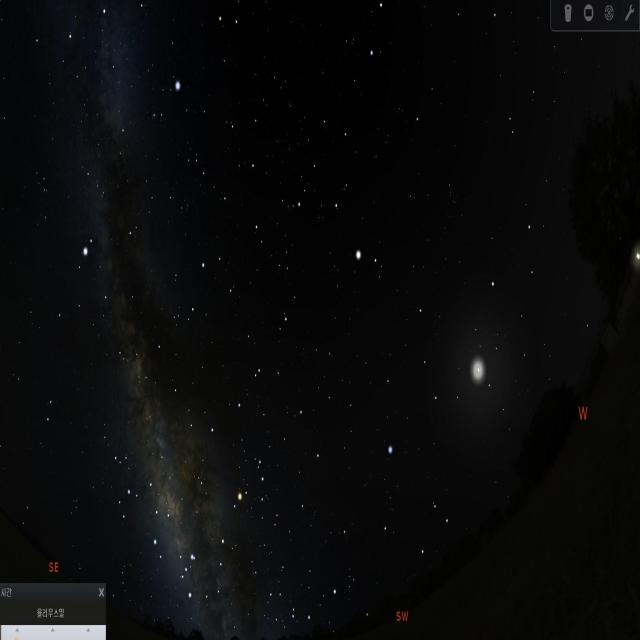aquila: (78, 221, 152, 370)
bootes: (303, 94, 385, 300)
lyra: (147, 72, 186, 130)
moon: (459, 340, 496, 404)
sagittarius: (106, 458, 184, 565)
scorpius: (184, 448, 272, 612)
